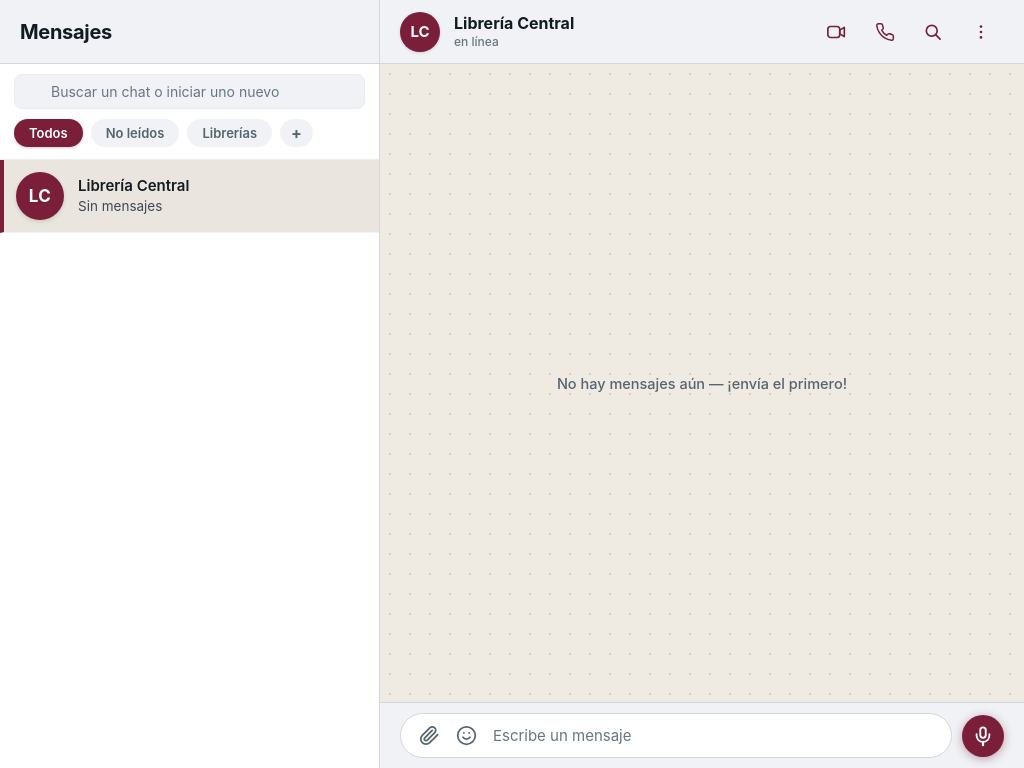
it: Chat (frontend) — pantalla › muestra un error visible si falla el envío del mensaje
Type "Mensaje sin conexión" into the field with placeholder "Escribe un mensaje".
click(713, 736); type("Mensaje sin conexión")  # box x1=487 y1=718 x2=939 y2=753
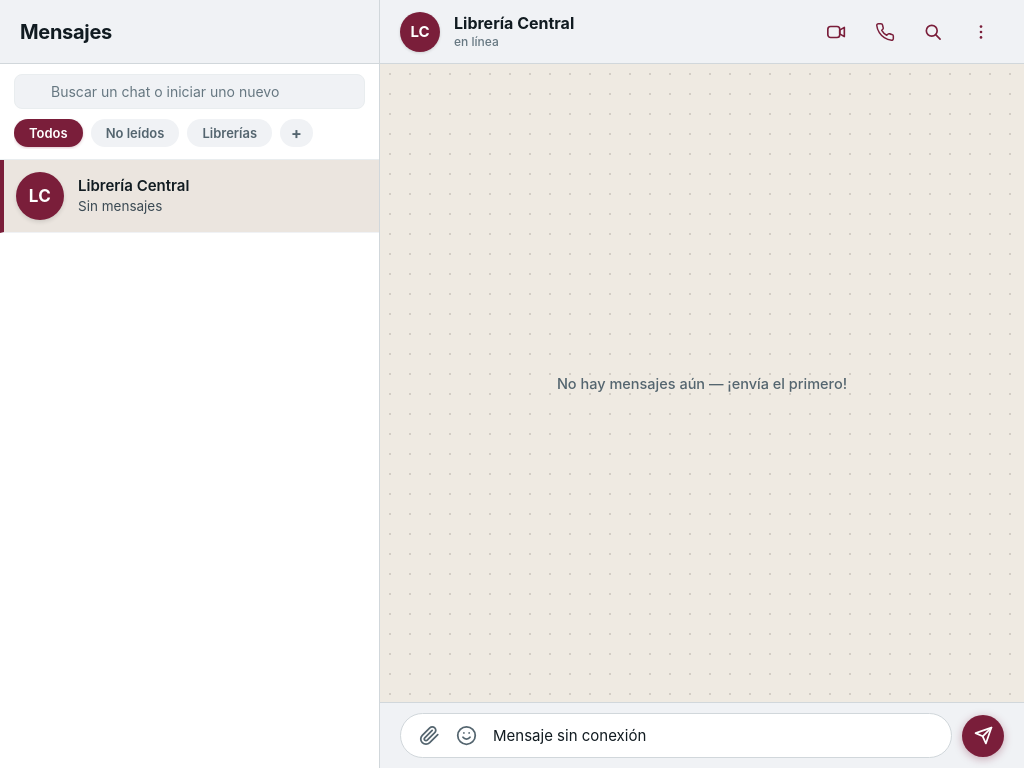
Click the button titled "Enviar mensaje".
click(983, 736)  # box x1=962 y1=714 x2=1004 y2=756
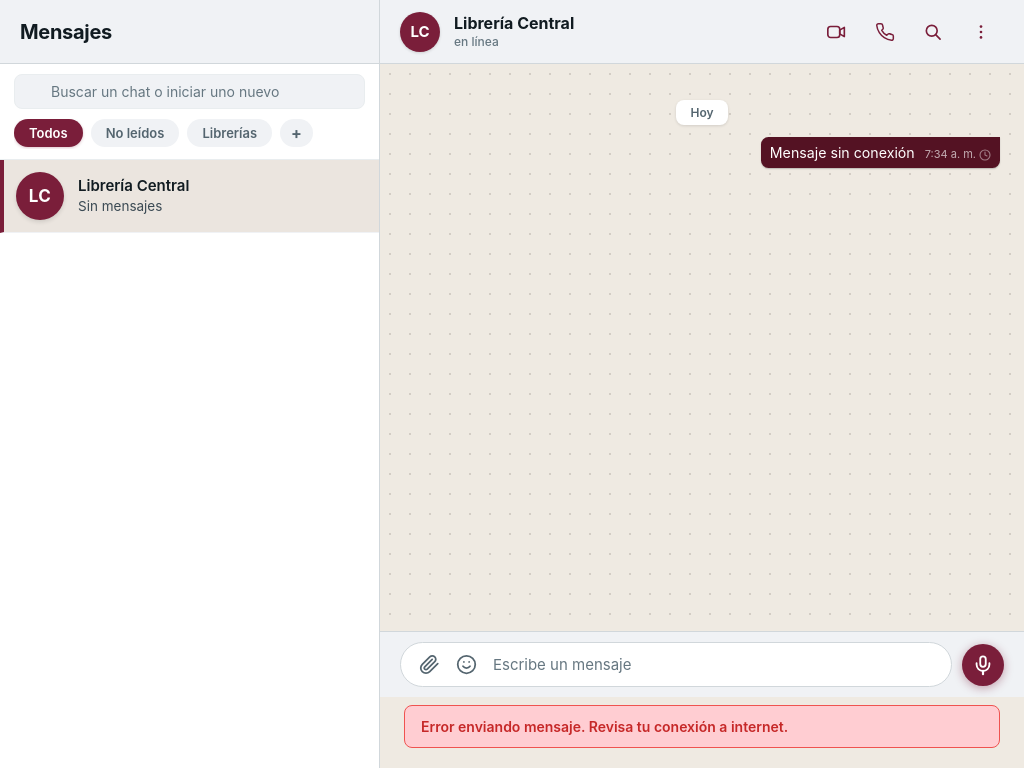
Expected: the text "Error enviando mensaje. Revisa tu conexión a internet." is shown, x1=404 y1=705 x2=1000 y2=748
